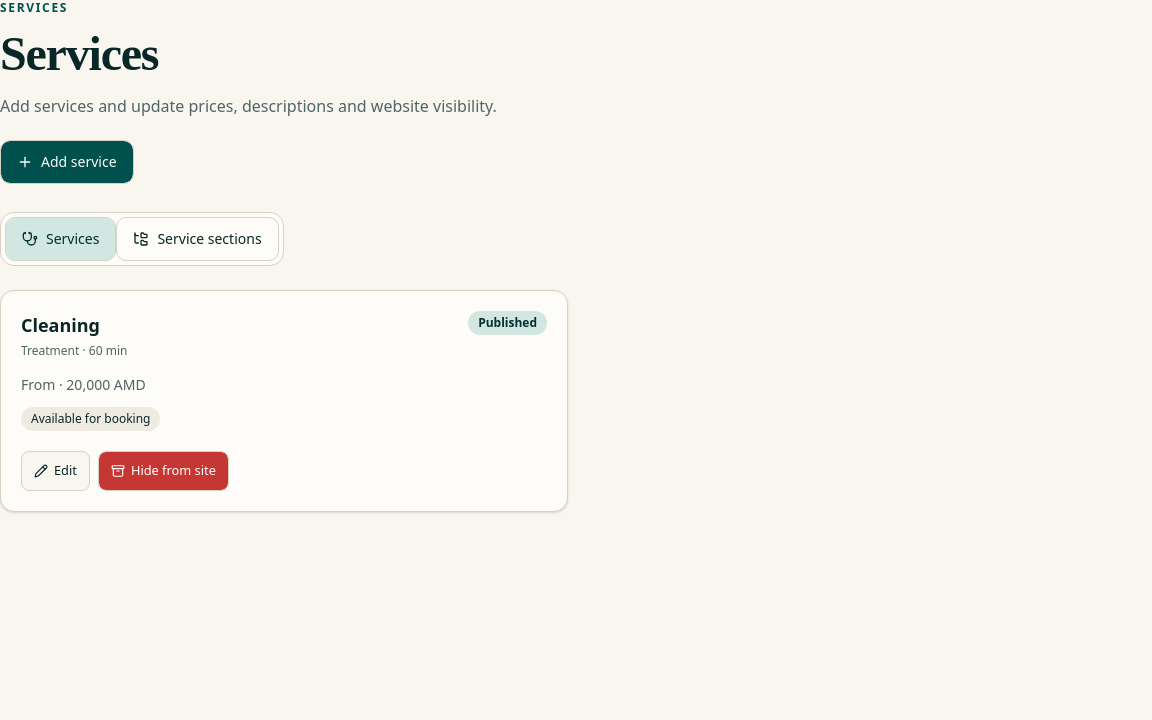
Test: staff category and service management › loads authoritative admin lists and creates a localized category without a client slug
Check: the heading "Cleaning" is shown, box [21,313,100,337]
Check: the button "Add service" is shown, box [0,140,134,184]
Click the tab "Service sections". click: x=198, y=239
box: [116,217,279,261]
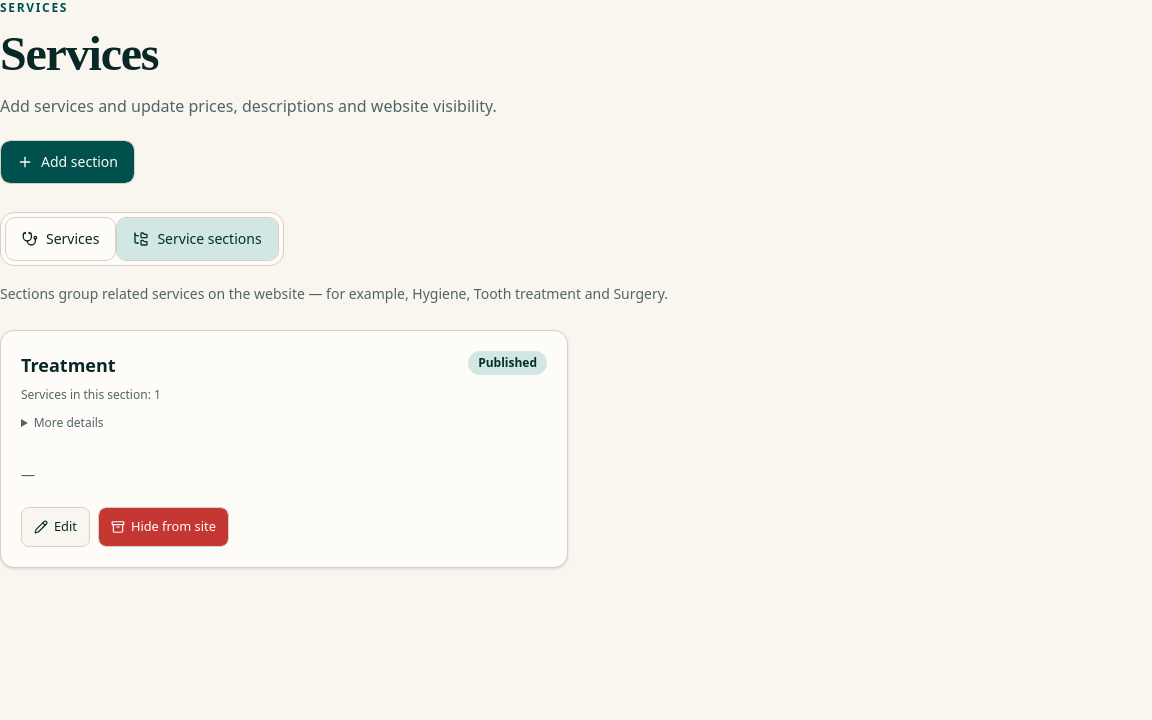
Check: the heading "Treatment" is shown, box [21,353,116,377]
Click the button "Add section". click: x=67, y=162
box: [0,140,135,184]
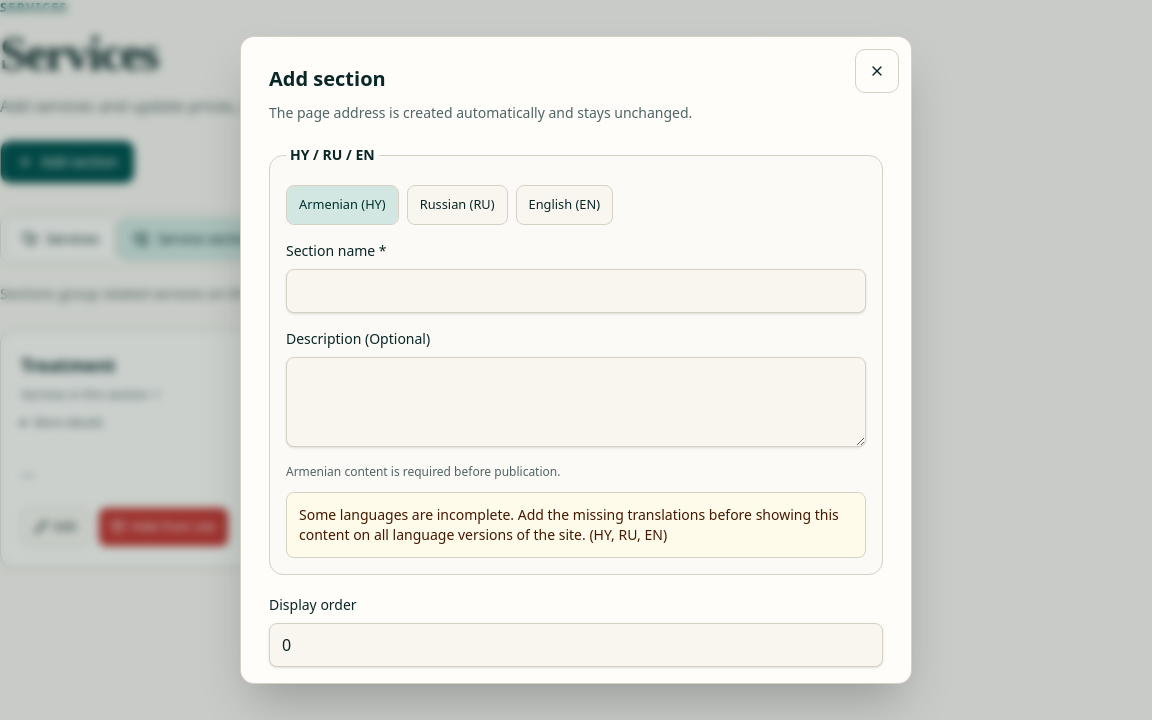
Type "Վիրաբուժություն" into the field labelled "Section name *". click: x=576, y=291
box: [286,269,866,313]
(page scrolled)
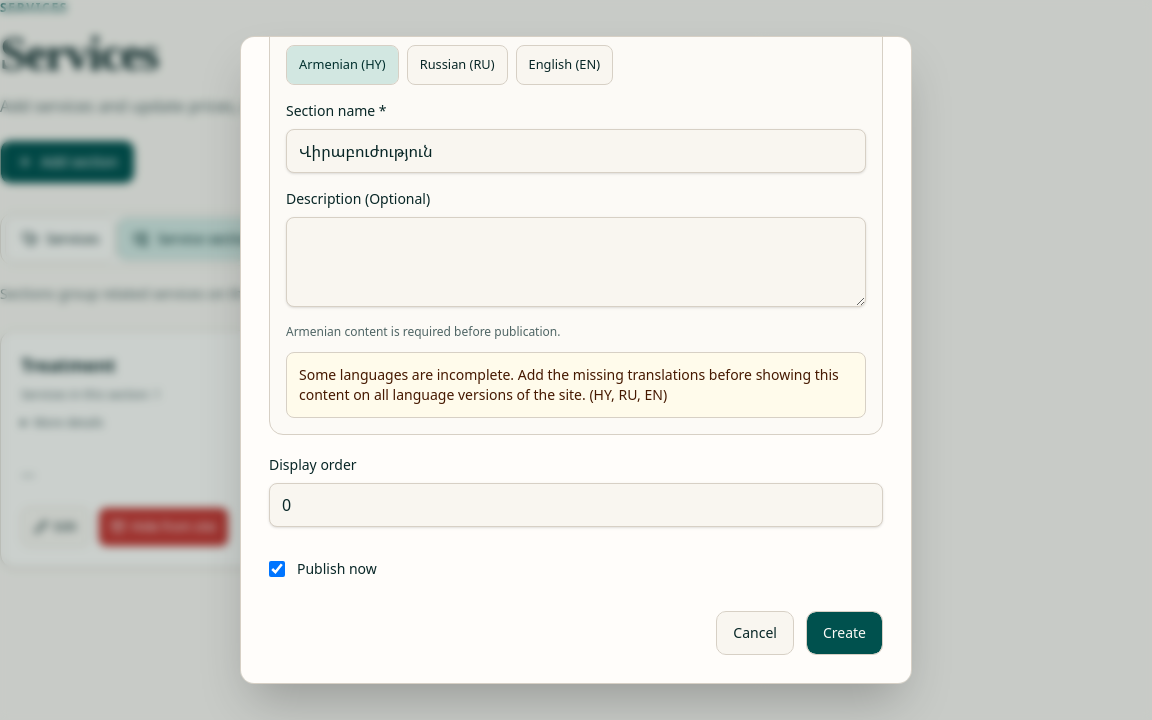
Click the button "Create". click: x=844, y=633
box: [806,611,883,655]
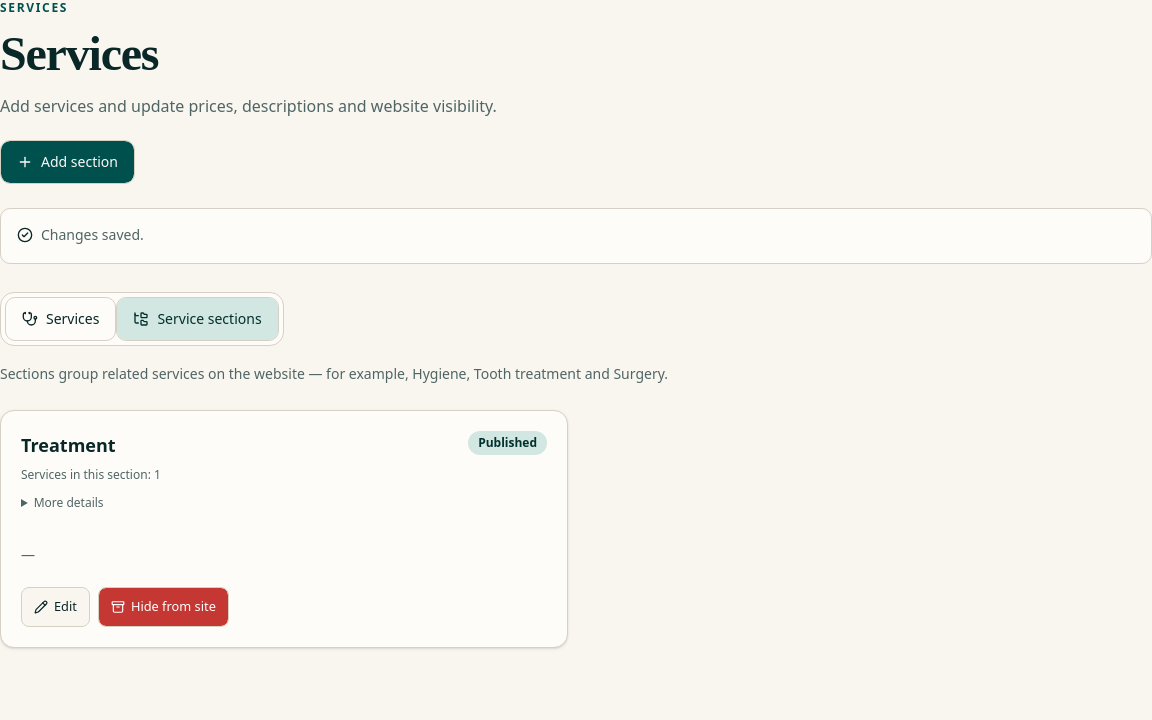
Check: the text "Changes saved." is shown, box [41,225,144,244]
